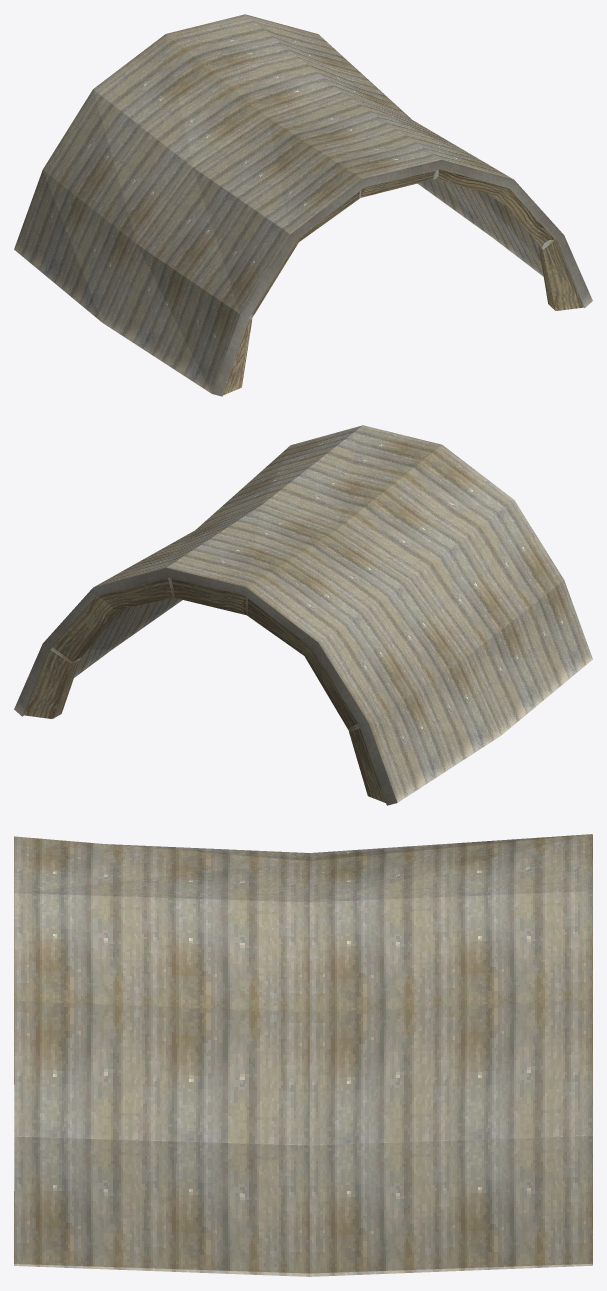
Rendered from C3SMHANGERTOP.obj.
The picture shows the model from 3 angles, top to bottom: view 1: azimuth 30°, elevation 25°; view 2: azimuth 150°, elevation 25°; view 3: azimuth 270°, elevation 25°; orthographic projection. The views are drawn at different scales.
Visible parts, largest first — view 1: Node 0; view 2: Node 0; view 3: Node 0.
Part boxes in pixels (bbox=[...]): Node 0: bbox=[14, 14, 592, 396]; Node 0: bbox=[14, 425, 592, 805]; Node 0: bbox=[14, 834, 592, 1276].
Size of the model in its own units: 23.19 by 10.55 by 19.91.
Materials: 2 (2 with a texture image).
